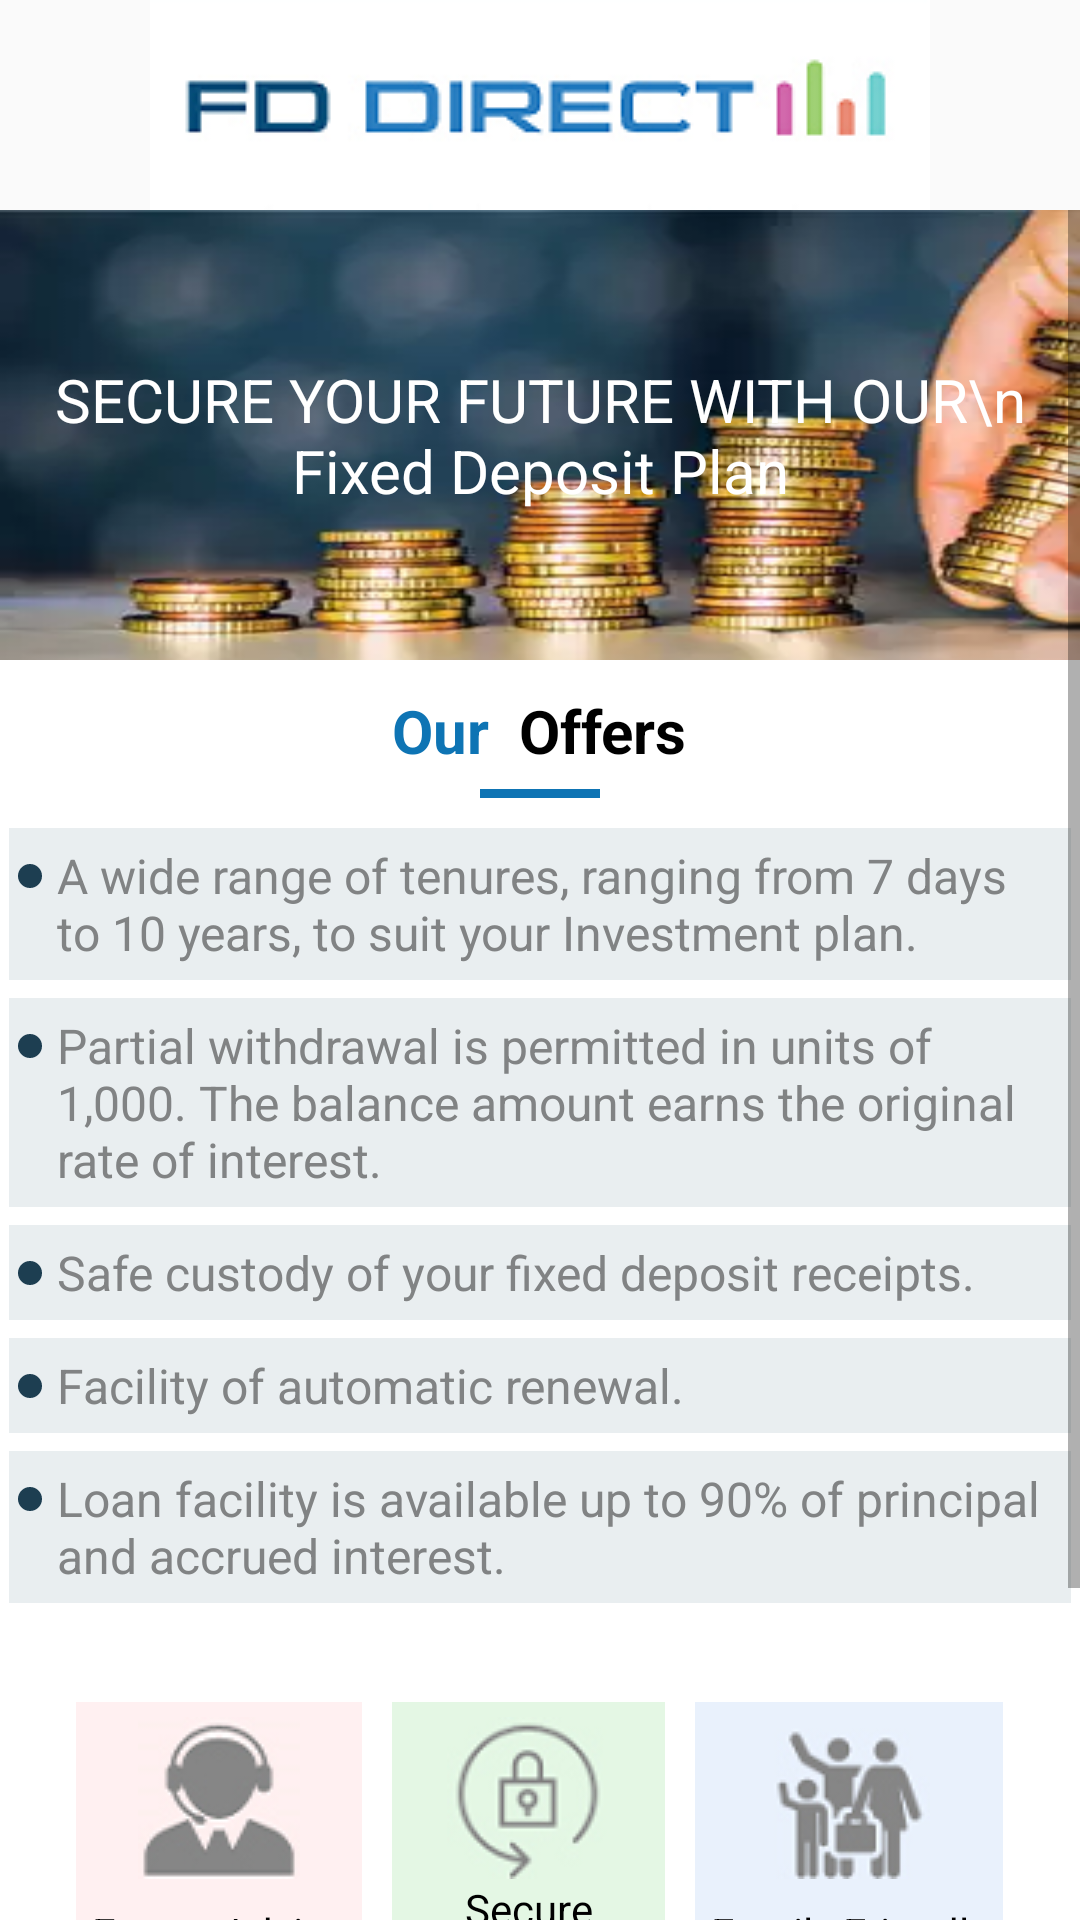

Screen size 1080w x 1920h. Icon name, then its center in pixels as (x,y):
bullet: (30,876), (30,1046), (30,1273), (30,1386), (30,1499)
